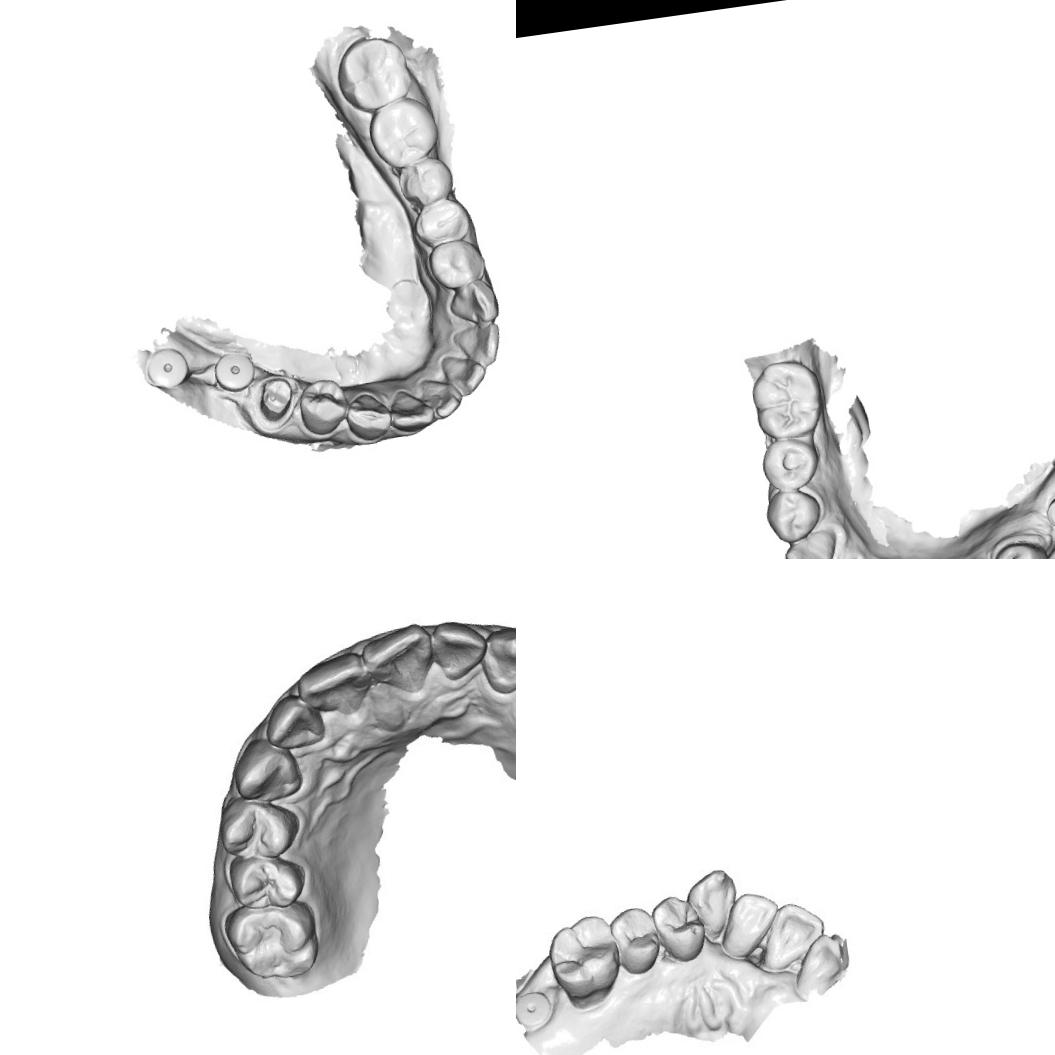canine: (232, 739, 300, 803), (686, 867, 740, 940), (341, 388, 394, 445), (447, 276, 500, 328), (478, 624, 516, 694), (780, 526, 842, 559)
crown: (242, 373, 305, 436)
implant: (144, 344, 192, 391), (210, 348, 258, 394), (516, 987, 553, 1030)
implant_minus: (1042, 493, 1055, 531)
incisor: (363, 624, 440, 704), (752, 899, 830, 974), (712, 888, 784, 960), (299, 654, 376, 720), (787, 928, 854, 1000), (428, 617, 491, 686), (267, 693, 328, 752), (438, 348, 493, 398), (453, 318, 508, 368), (385, 384, 436, 436), (419, 374, 465, 422)
molar: (223, 892, 321, 991), (543, 910, 626, 1004), (331, 32, 417, 119), (746, 355, 828, 444), (364, 93, 442, 171), (395, 155, 458, 209)
premolar: (214, 791, 300, 862), (225, 848, 309, 915), (608, 901, 667, 977), (649, 891, 707, 965), (758, 432, 824, 494), (762, 485, 826, 546), (423, 234, 490, 292), (292, 376, 352, 440), (410, 194, 474, 248), (989, 537, 1054, 559)
